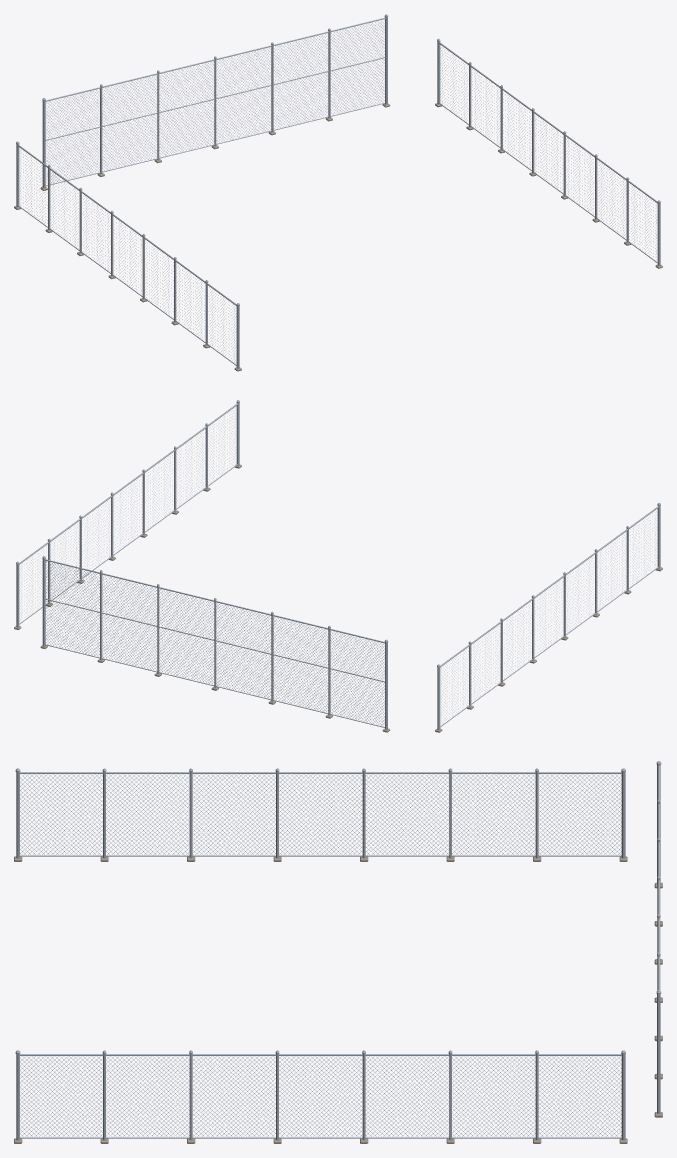
Rendered from sb-fences.glb.
The picture shows the model from 3 angles, top to bottom: view 1: azimuth 30°, elevation 25°; view 2: azimuth 150°, elevation 25°; view 3: azimuth 270°, elevation 25°; orthographic projection. The views are drawn at different scales.
Parts seen in each view (by area): view 1: ChainLinkBack, Fences, ChainLinkLeft, ChainLinkRight; view 2: ChainLinkBack, Fences, ChainLinkLeft, ChainLinkRight; view 3: ChainLinkRight, ChainLinkLeft, Fences.
Part boxes in pixels (x1,y1,x2,y2): ChainLinkBack: [45, 20, 384, 184]; Fences: [14, 14, 662, 371]; ChainLinkLeft: [18, 150, 236, 363]; ChainLinkRight: [439, 46, 656, 256]; ChainLinkBack: [45, 561, 384, 725]; Fences: [14, 400, 662, 732]; ChainLinkLeft: [441, 509, 658, 720]; ChainLinkRight: [19, 408, 236, 617]; ChainLinkRight: [20, 1056, 621, 1136]; ChainLinkLeft: [20, 774, 621, 854]; Fences: [14, 761, 662, 1143].
Size of the model in its own units: 18.18 by 3.74 by 17.47.
Materials: 3 (1 with a texture image).
